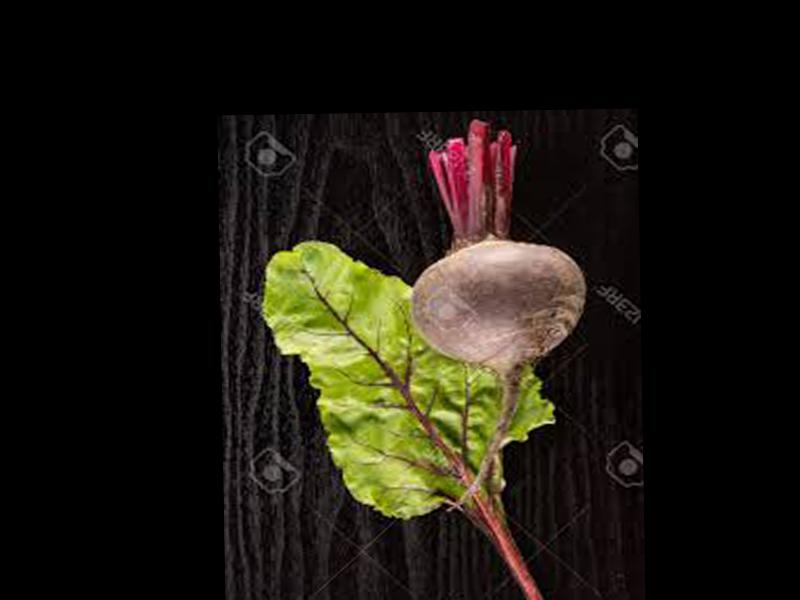Beet: (408, 117, 589, 511)
